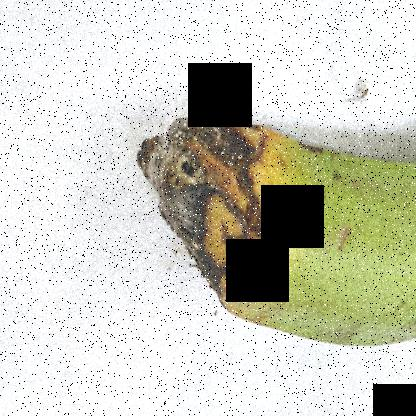rotten: (116, 93, 298, 344)
